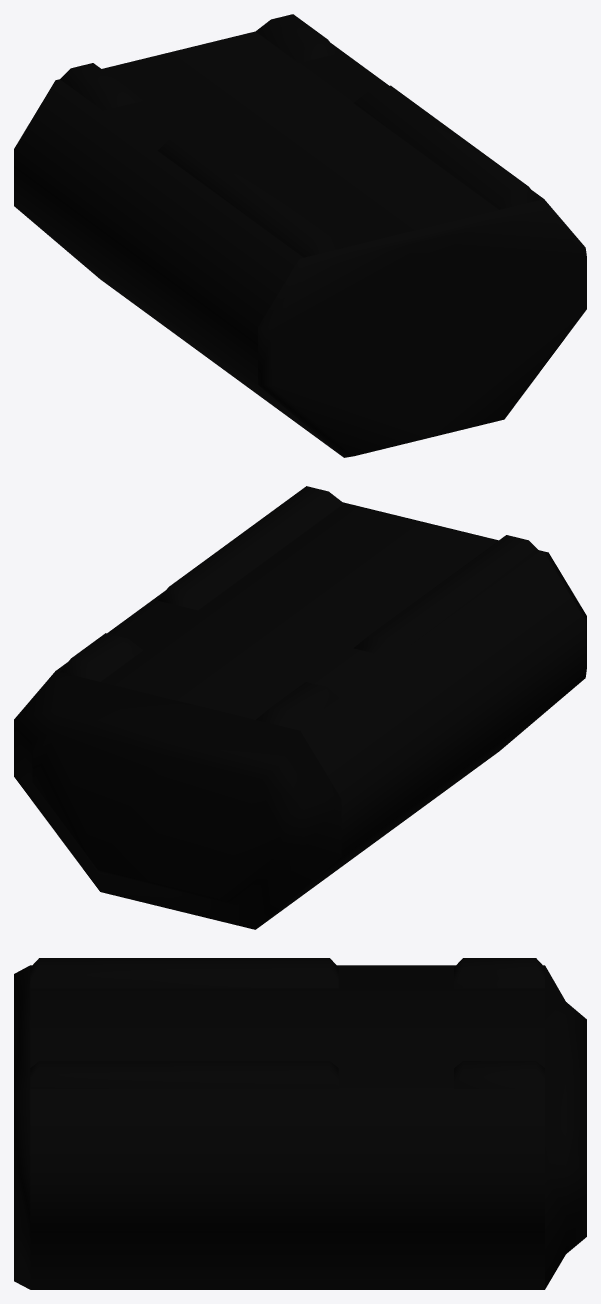
The model's file is hgn_su_tugs_04.glb.
3 renders of one model, top to bottom at view 1: azimuth 30°, elevation 25°; view 2: azimuth 150°, elevation 25°; view 3: azimuth 270°, elevation 25°, orthographic. The views are drawn at different scales.
Parts seen in each view (by area): view 1: loot_container_04_a; view 2: loot_container_04_a; view 3: loot_container_04_a.
Boxes of the visible parts, <box> form: loot_container_04_a: <box>14,14,586,457</box>; loot_container_04_a: <box>14,486,586,929</box>; loot_container_04_a: <box>14,958,586,1289</box>.
Size of what is drawn, in the model's own units: 0.6964 by 0.4513 by 0.9992.
1 material, 1 textured.
